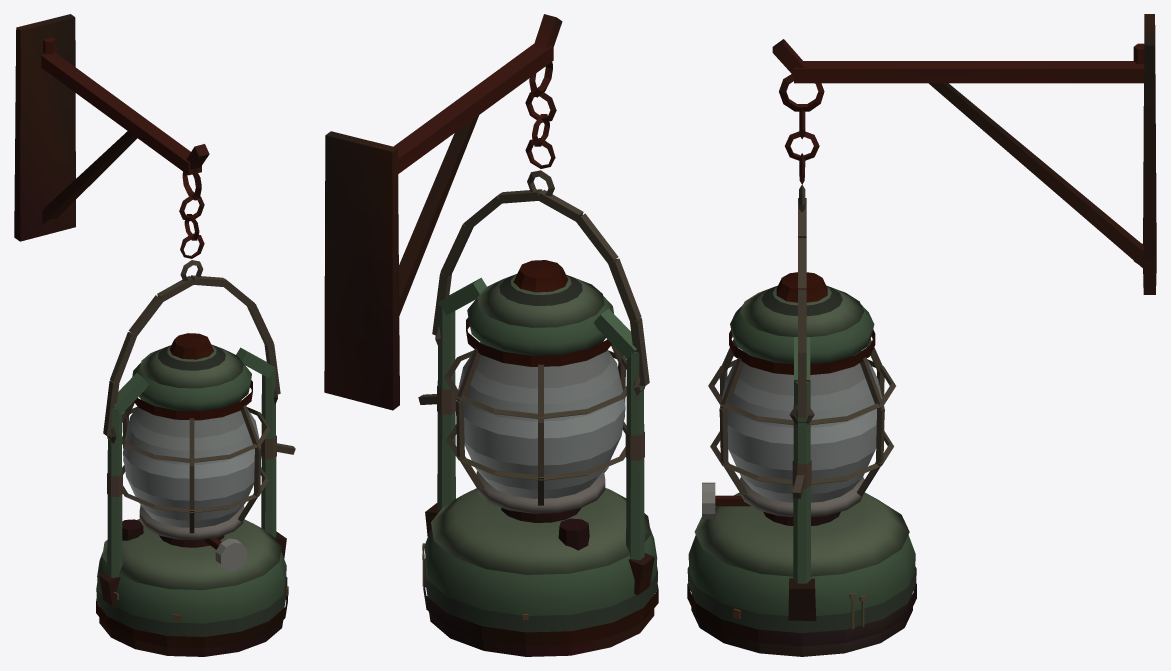
The model's file is lantern_hanging_v2.glb.
The picture shows the model from 3 angles, left to right: view 1: azimuth 30°, elevation 25°; view 2: azimuth 150°, elevation 25°; view 3: azimuth 270°, elevation 25°; orthographic projection. The views are drawn at different scales.
Parts seen in each view (by area): view 1: hb_metal, hb_props; view 2: hb_metal, hb_props; view 3: hb_metal, hb_props.
Boxes of the visible parts, <box> form: hb_metal: <box>14,14,295,656</box>; hb_props: <box>123,400,259,527</box>; hb_metal: <box>324,14,658,656</box>; hb_props: <box>456,342,625,498</box>; hb_metal: <box>687,14,1156,656</box>; hb_props: <box>719,351,884,502</box>.
Size of the model in its own units: 0.1939 by 0.4791 by 0.3513.
